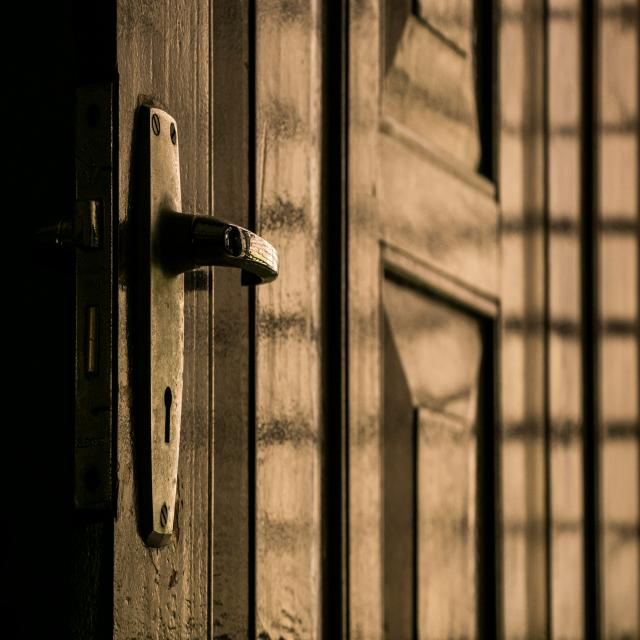door-handle: (164, 212, 279, 286)
